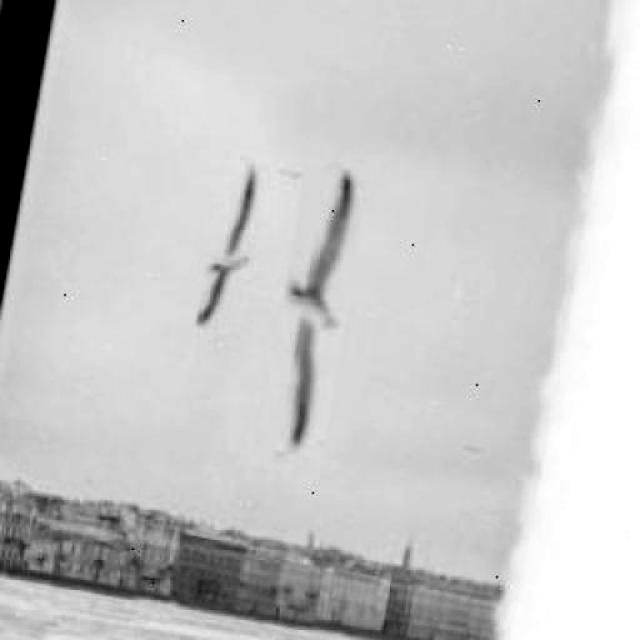airplane: (256, 162, 370, 459), (192, 158, 271, 335)
